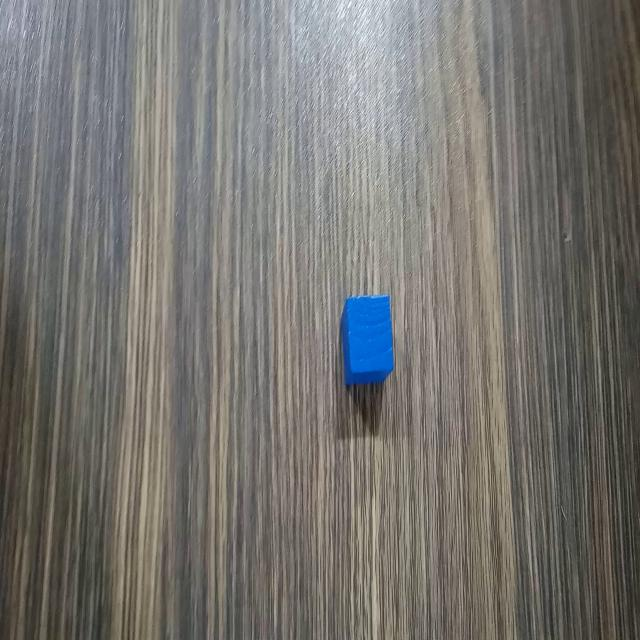cube: (338, 290, 397, 385)
